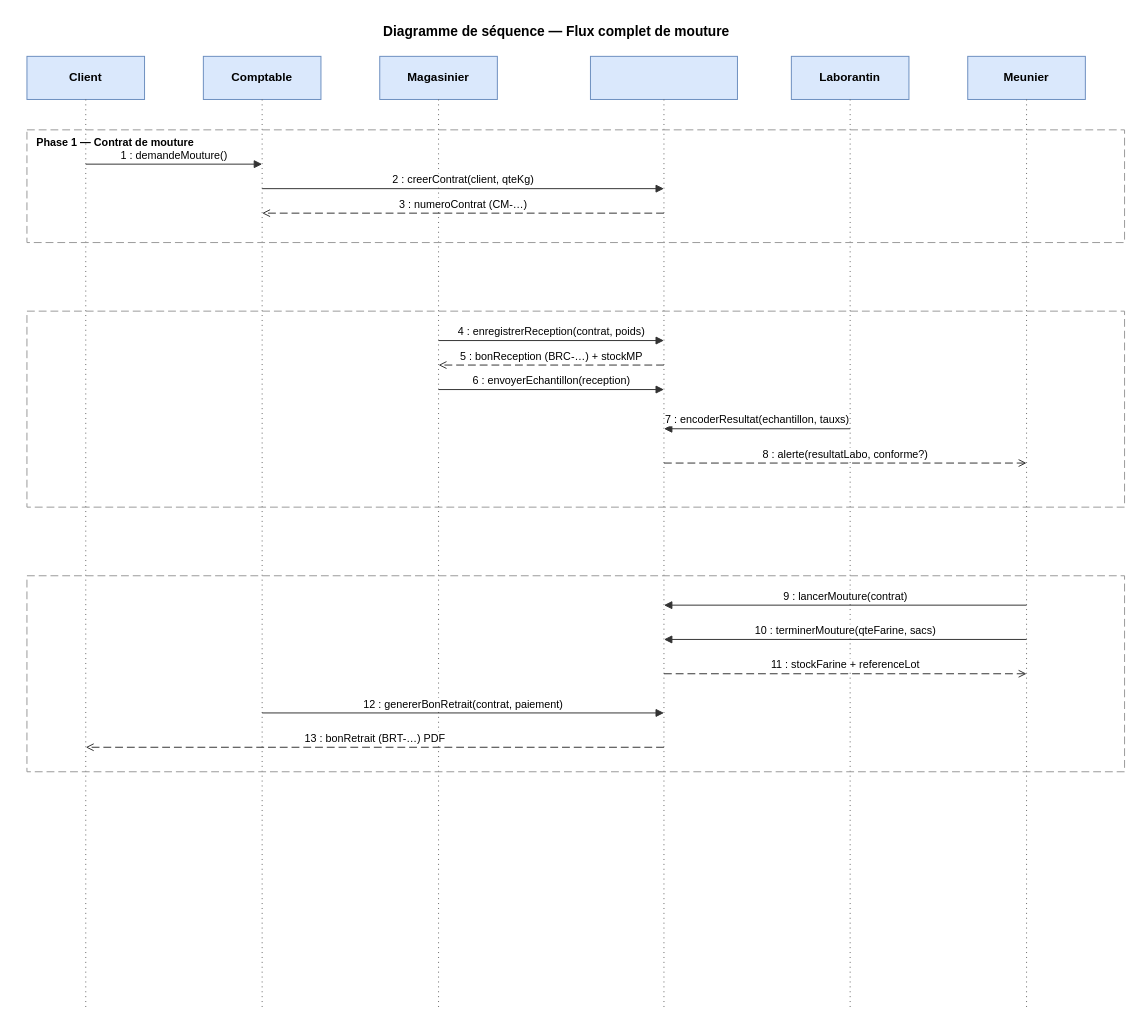
Image size: 1142x1025. Some labels were removed from this diagram. The shapes that lost their labels are listed below. From the top down, each one's centre as x and y in pixels, then its label:
At point 663,77: ":Système MNL".
At point 575,408: "Phase 2 — Réception & laboratoire".
At point 575,673: "Phase 3 — Production & retrait".
